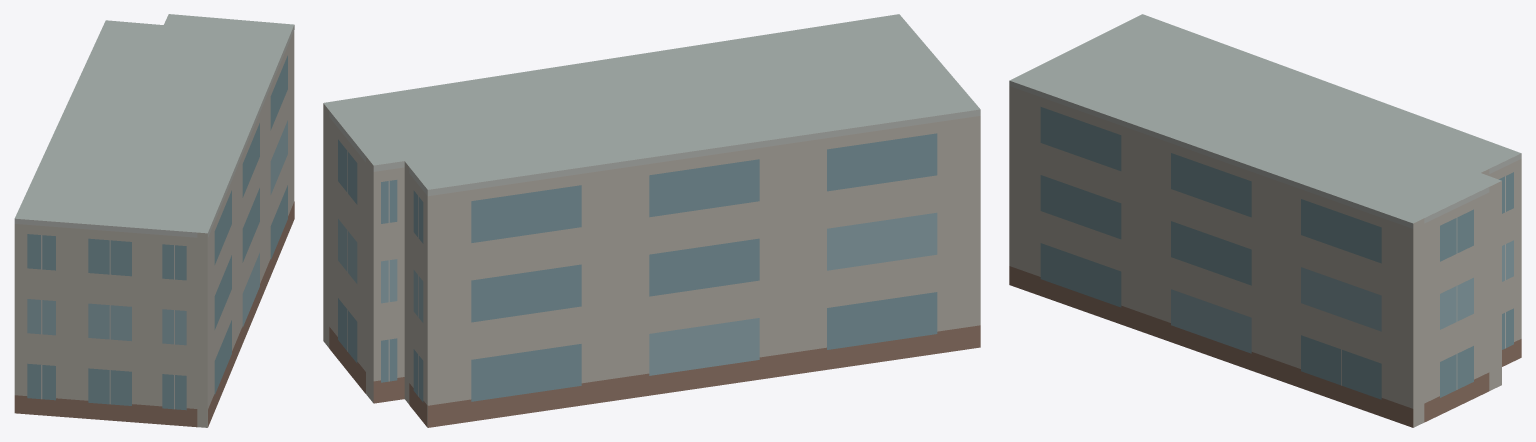
Rendered from survey-upis-32700877.glb.
3 renders of one model, left to right at view 1: azimuth 30°, elevation 25°; view 2: azimuth 150°, elevation 25°; view 3: azimuth 270°, elevation 25°, orthographic. The views are drawn at different scales.
Parts seen in each view (by area): view 1: survey-upis-32700877.tmp; view 2: survey-upis-32700877.tmp; view 3: survey-upis-32700877.tmp.
Part boxes in pixels (x1,y1,x2,y2): survey-upis-32700877.tmp: [14, 14, 294, 427]; survey-upis-32700877.tmp: [323, 14, 980, 427]; survey-upis-32700877.tmp: [1009, 14, 1521, 427].
Bounding box in the file's own units: 20.12 × 9.15 × 20.79.
